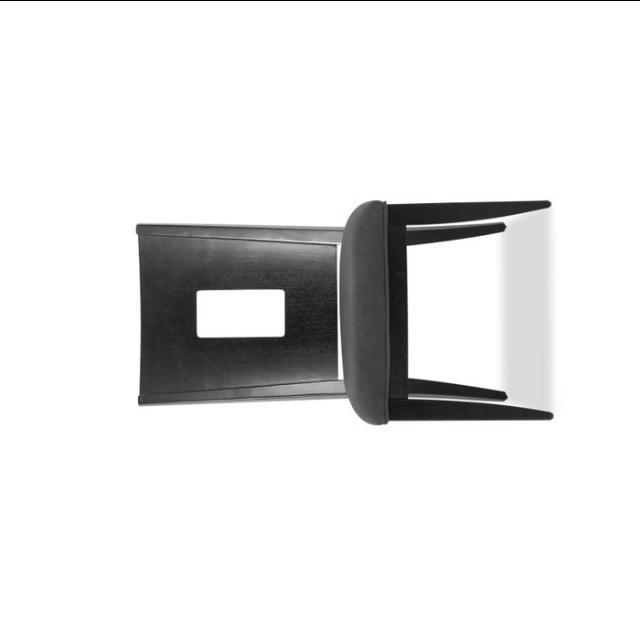chair: (136, 196, 554, 424)
